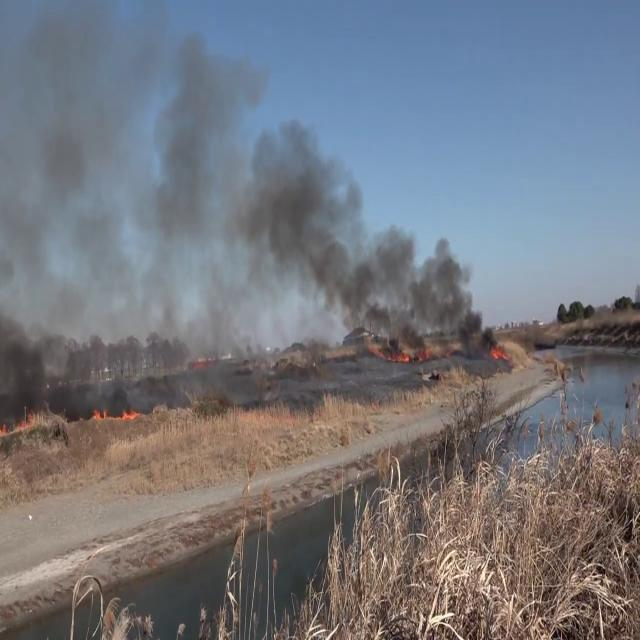Smoke: (1, 21, 487, 376)
